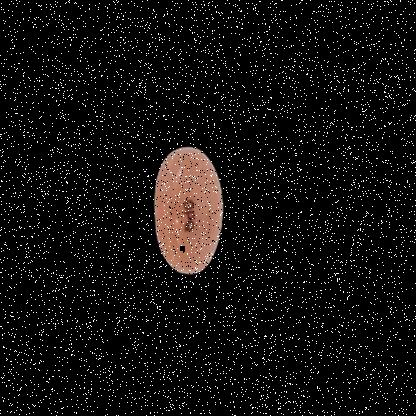opiqutan: (135, 131, 263, 307)
